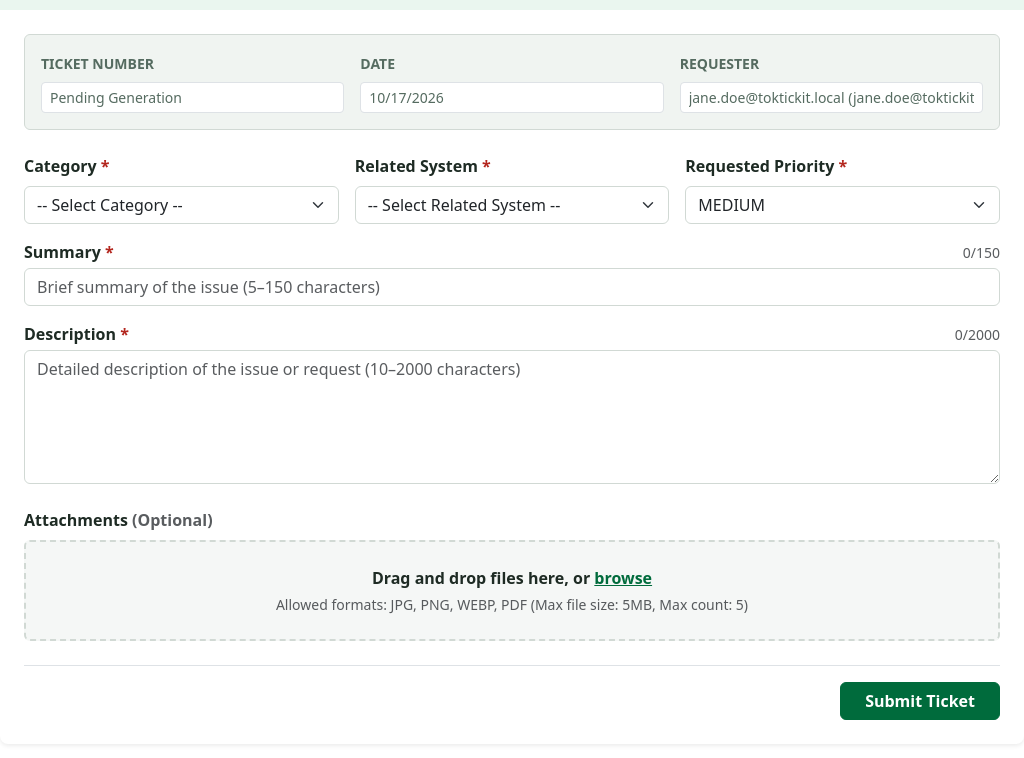
Test: CreateTicket UI Component (Lab 2 — GitHub Issue #4) › UI-03: validates required fields and length constraints on submit
The width and height of the screenshot is (1024, 758).
(page scrolled)
Expected: the dropdown labelled "Category *" is shown, [24,186,339,224]
Click the button "Submit Ticket" at {"x": 920, "y": 701}, box [840,682,1000,720]
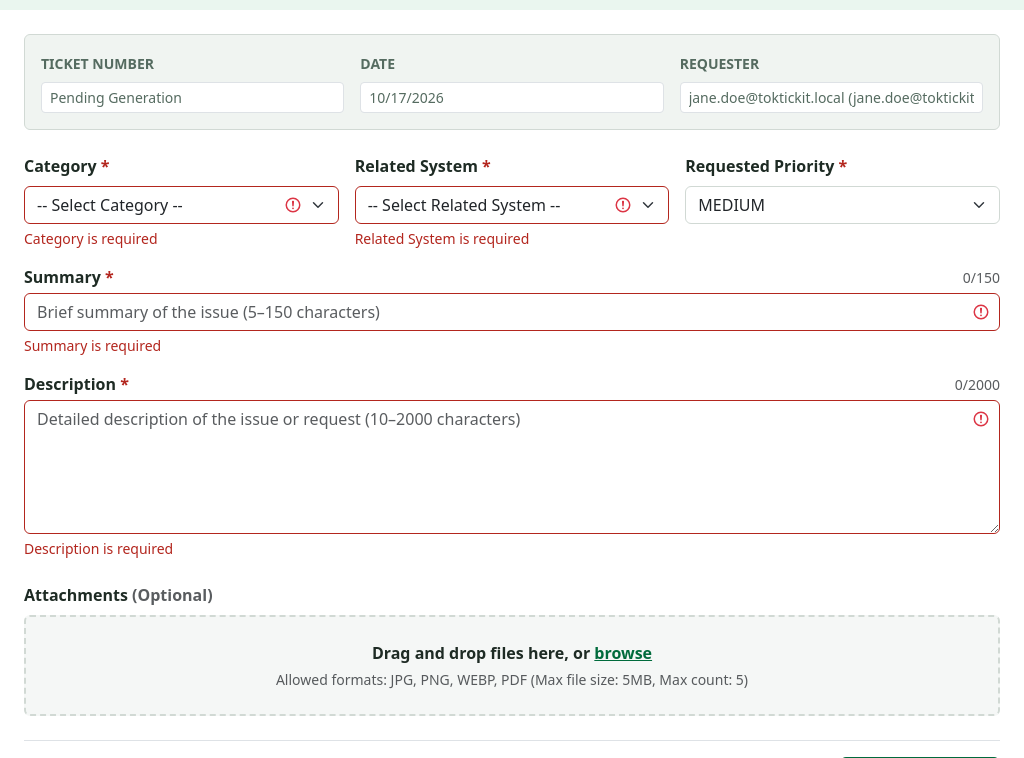
Expected: the text "Category is required" is shown, [24,229,158,248]
Expected: the text "Related System is required" is shown, [355,229,529,248]
Expected: the text "Summary is required" is shown, [24,336,161,355]
